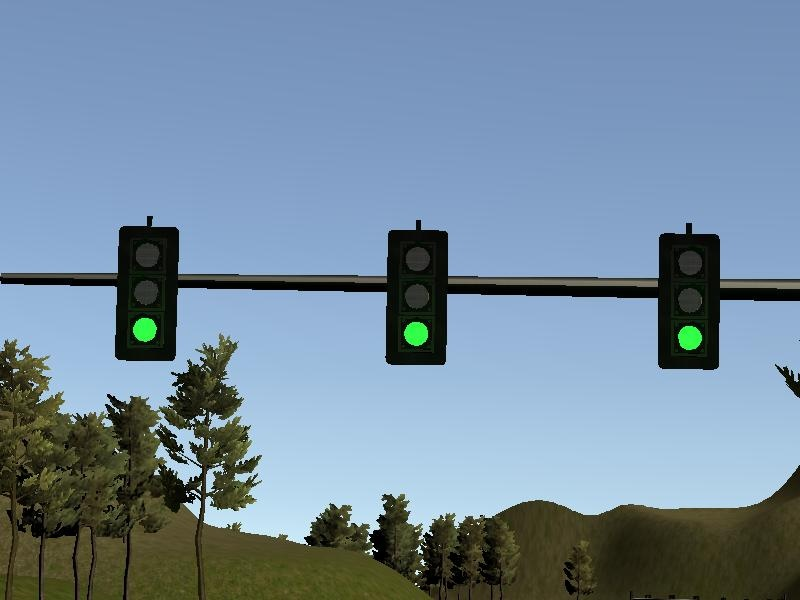green: (116, 226, 180, 364), (659, 231, 720, 369), (388, 231, 450, 366)
